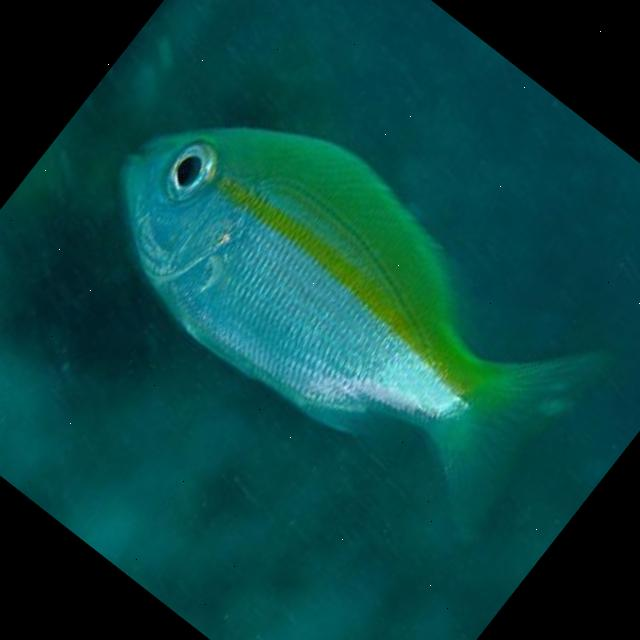ikan: (61, 39, 624, 556)
